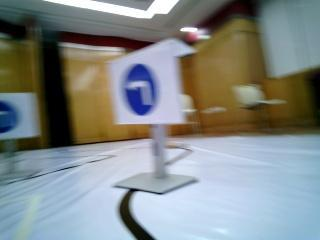left: (115, 63, 176, 123)
